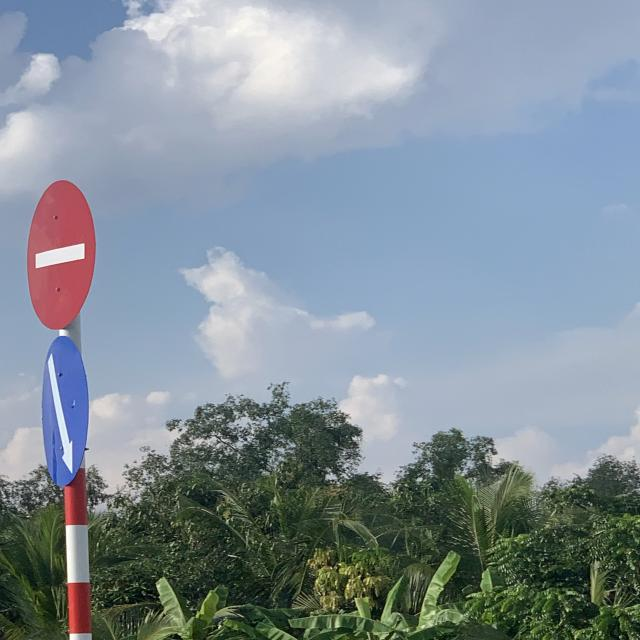Cam_Di_Nguoc_Chieu: (26, 180, 98, 330)
Chi_Huong_Di_Phai: (40, 336, 92, 486)
